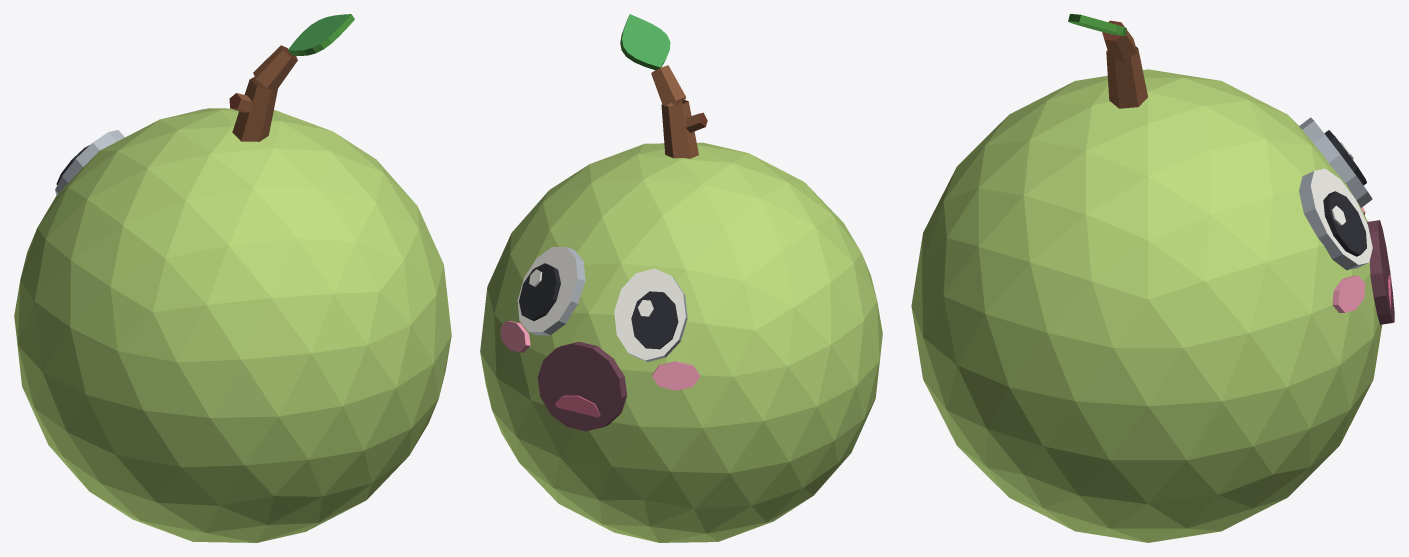
Rendered from CH_Dalcik_T1_Eat.fbx.
3 views of the same model, side by side, from view 1: azimuth 30°, elevation 25°; view 2: azimuth 150°, elevation 25°; view 3: azimuth 270°, elevation 25° (orthographic). The views are drawn at different scales.
Visible parts, largest first — view 1: CH_Dalcik_T1_Eat; view 2: CH_Dalcik_T1_Eat; view 3: CH_Dalcik_T1_Eat.
Boxes of the visible parts, <box> form: CH_Dalcik_T1_Eat: <box>14,14,451,542</box>; CH_Dalcik_T1_Eat: <box>480,14,882,542</box>; CH_Dalcik_T1_Eat: <box>911,14,1394,542</box>.
Size of the model in its own units: 1 by 1.29 by 1.02.
